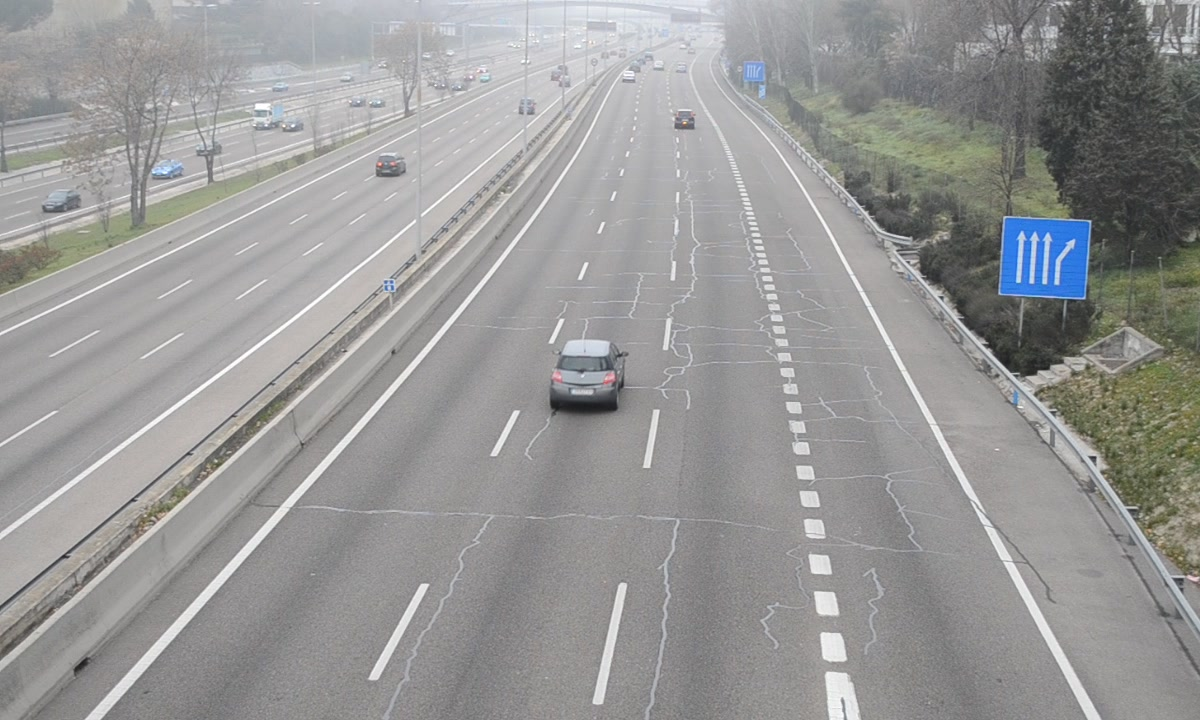car: (551, 340, 622, 408), (673, 108, 695, 130)
